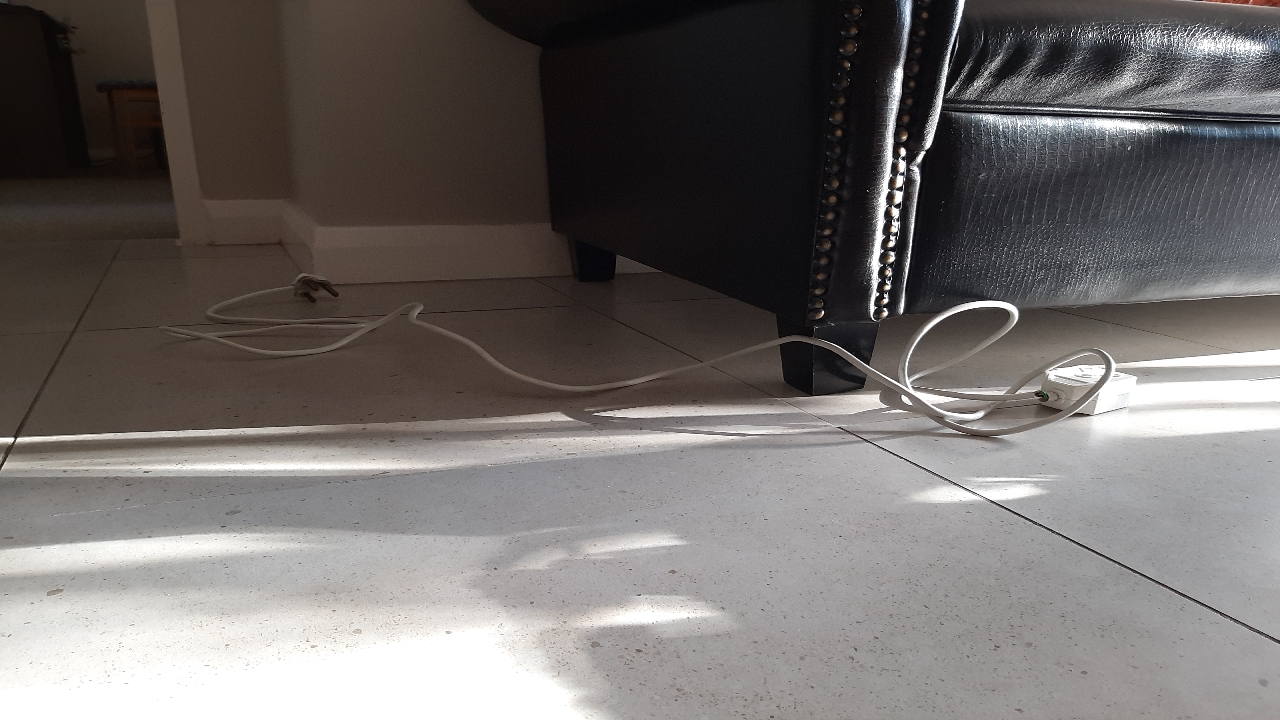cable: (170, 277, 727, 452), (905, 322, 1161, 473)
